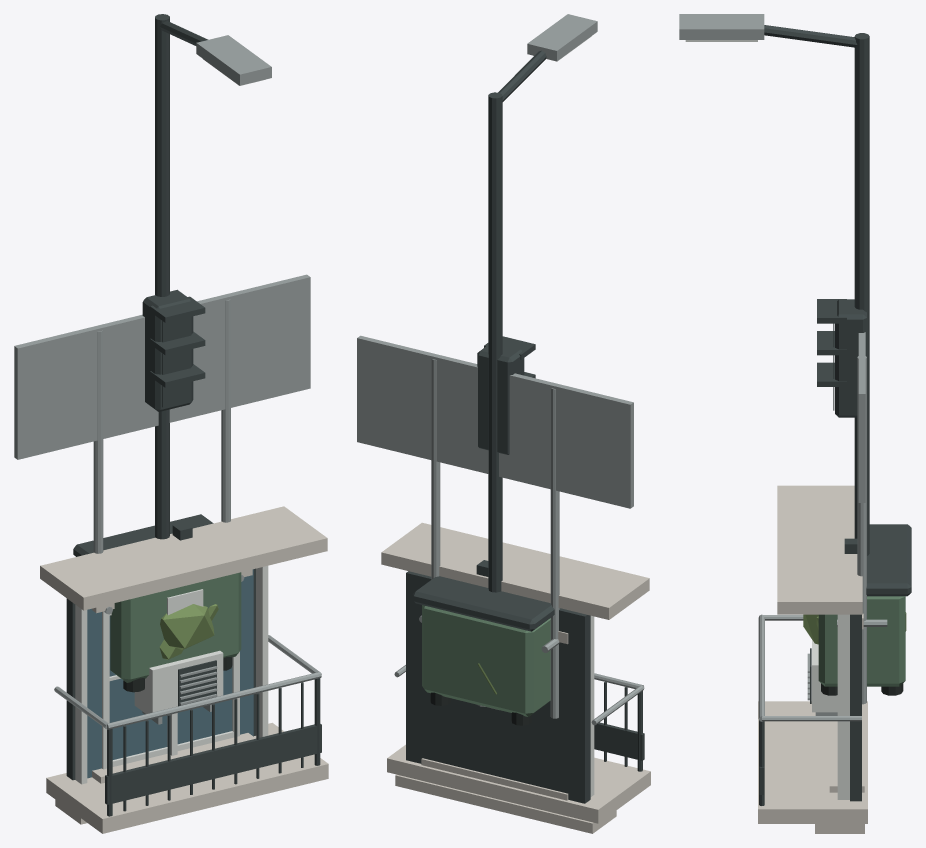
File: city-completion-kit.glb
3 views of the same model, side by side, from view 1: azimuth 30°, elevation 25°; view 2: azimuth 150°, elevation 25°; view 3: azimuth 270°, elevation 25° (orthographic). The views are drawn at different scales.
Parts seen in each view (by area): view 1: direction_pole__steel, entrance_bay__stone, balcony_bay__dark, entrance_bay__glass, balcony_bay__stone, waste_container__green, street_lamp__dark, traffic_signals__dark, entrance_bay__frame, window_bay__frame, air_conditioner__frame, balcony_bay__steel (+8 smaller); view 2: direction_pole__steel, entrance_bay__dark, entrance_bay__stone, waste_container__green, street_lamp__dark, balcony_bay__stone, waste_container__dark, traffic_signals__dark, balcony_bay__dark, street_lamp__steel, window_bay__stone, entrance_bay__frame (+1 smaller); view 3: entrance_bay__stone, balcony_bay__stone, street_lamp__dark, waste_container__green, traffic_signals__dark, waste_container__dark, direction_pole__steel, entrance_bay__frame, street_lamp__steel, entrance_bay__dark, balcony_bay__steel, window_bay__stone (+2 smaller).
Part boxes in pixels (left/top/right/bottom): direction_pole__steel: left=14, top=274, right=310, bottom=553; entrance_bay__stone: left=40, top=506, right=327, bottom=824; balcony_bay__dark: left=105, top=678, right=321, bottom=816; entrance_bay__glass: left=87, top=569, right=253, bottom=778; balcony_bay__stone: left=46, top=722, right=328, bottom=833; waste_container__green: left=110, top=572, right=241, bottom=682; street_lamp__dark: left=155, top=14, right=208, bottom=539; traffic_signals__dark: left=142, top=289, right=205, bottom=540; entrance_bay__frame: left=75, top=565, right=268, bottom=784; window_bay__frame: left=102, top=611, right=239, bottom=769; air_conditioner__frame: left=134, top=650, right=223, bottom=713; balcony_bay__steel: left=54, top=635, right=321, bottom=729; direction_pole__steel: left=357, top=335, right=633, bottom=718; entrance_bay__dark: left=406, top=571, right=590, bottom=803; entrance_bay__stone: left=381, top=522, right=649, bottom=833; waste_container__green: left=422, top=605, right=550, bottom=716; street_lamp__dark: left=488, top=50, right=546, bottom=592; balcony_bay__stone: left=387, top=744, right=650, bottom=823; waste_container__dark: left=412, top=576, right=554, bottom=631; traffic_signals__dark: left=476, top=336, right=535, bottom=576; balcony_bay__dark: left=594, top=682, right=644, bottom=771; street_lamp__steel: left=527, top=14, right=597, bottom=61; window_bay__stone: left=421, top=631, right=568, bottom=800; entrance_bay__frame: left=590, top=615, right=594, bottom=796; entrance_bay__stone: left=777, top=485, right=864, bottom=833; balcony_bay__stone: left=758, top=701, right=867, bottom=823; street_lamp__dark: left=764, top=25, right=869, bottom=555; waste_container__green: left=818, top=596, right=905, bottom=686; traffic_signals__dark: left=817, top=299, right=866, bottom=553; waste_container__dark: left=866, top=524, right=911, bottom=596; direction_pole__steel: left=857, top=332, right=866, bottom=704; entrance_bay__frame: left=837, top=614, right=849, bottom=799; street_lamp__steel: left=679, top=14, right=764, bottom=39; entrance_bay__dark: left=850, top=614, right=861, bottom=801; balcony_bay__steel: left=758, top=614, right=861, bottom=721; window_bay__stone: left=829, top=613, right=864, bottom=792.
Size of the model in its own units: 3.3 by 8.4 by 2.32.
